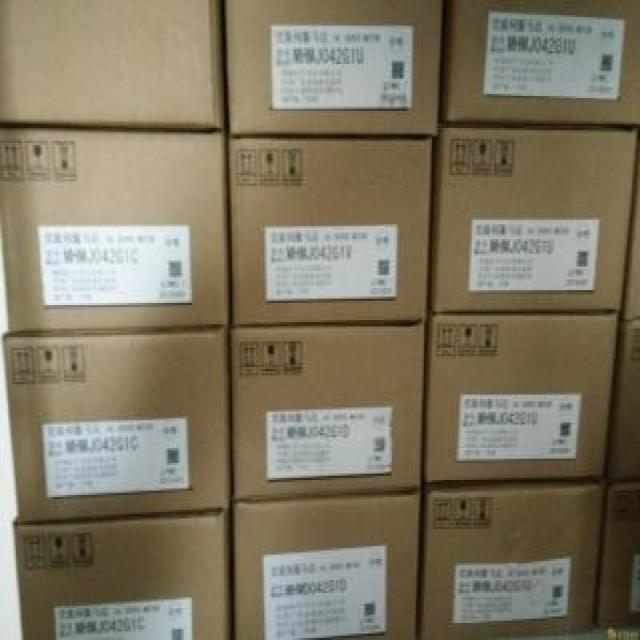box: (0, 126, 229, 335), (2, 331, 230, 521), (430, 126, 638, 311), (229, 139, 434, 326), (232, 322, 426, 501), (424, 311, 619, 482), (226, 0, 443, 137), (419, 482, 606, 640), (14, 510, 230, 640), (234, 493, 421, 640), (440, 0, 640, 128), (598, 480, 640, 629)
